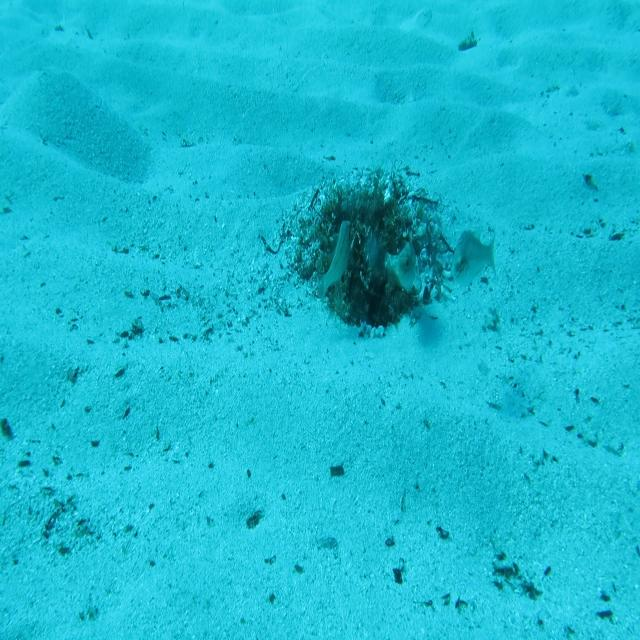BEND: (376, 227, 417, 296)
core_nest: (359, 190, 404, 229)
female: (315, 218, 353, 308), (449, 226, 499, 289)
nest: (284, 165, 457, 344)
vegetation: (489, 538, 554, 606), (115, 306, 147, 346), (0, 403, 15, 449), (458, 28, 480, 53), (594, 593, 614, 619), (582, 169, 600, 194), (245, 505, 263, 530), (330, 460, 346, 479)
